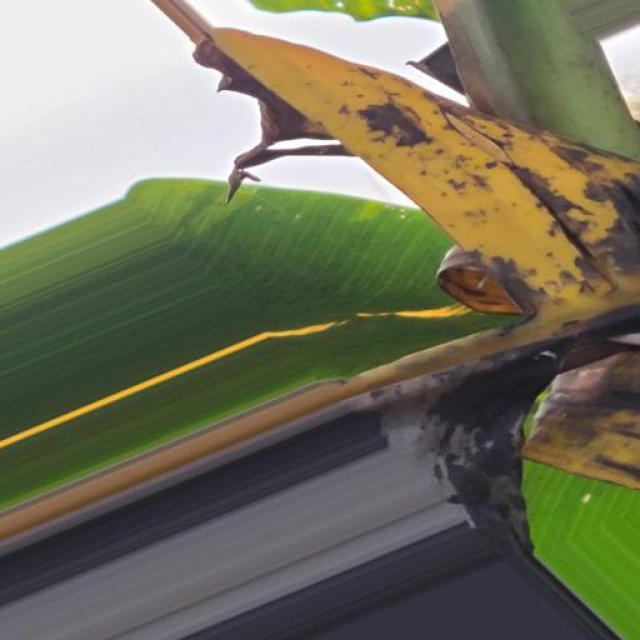Cordana: (172, 10, 640, 350), (0, 324, 268, 468)
